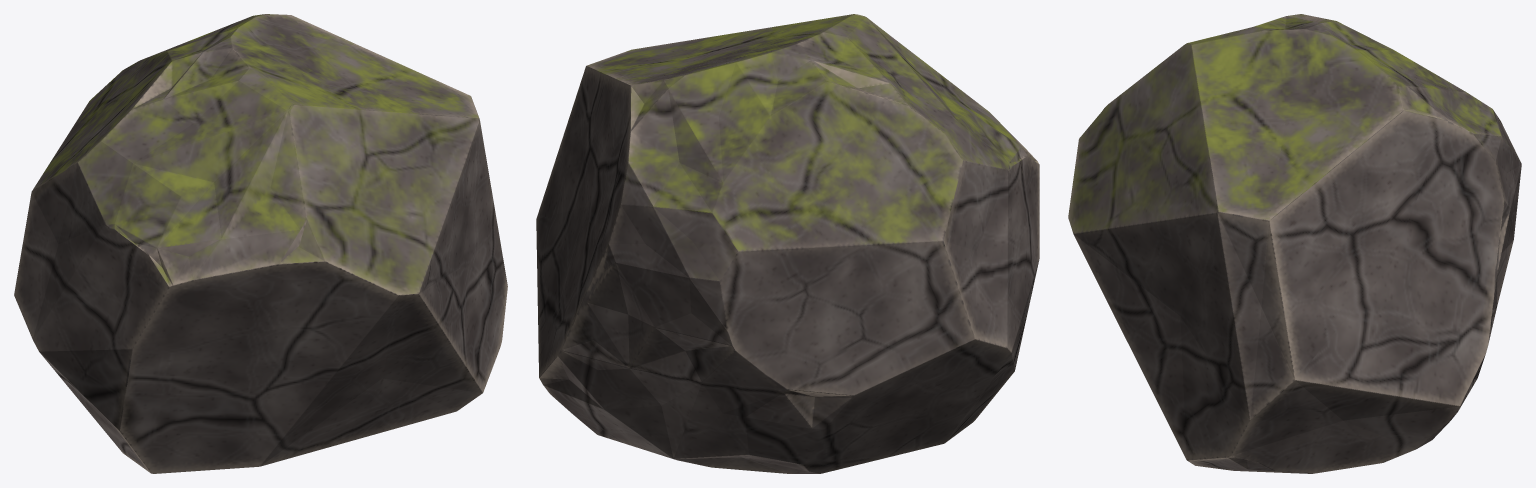
The model's file is Stone_Small_C.fbx.
The picture shows the model from 3 angles, left to right: view 1: azimuth 30°, elevation 25°; view 2: azimuth 150°, elevation 25°; view 3: azimuth 270°, elevation 25°; orthographic projection. The views are drawn at different scales.
Visible parts, largest first — view 1: Stone_Small_C; view 2: Stone_Small_C; view 3: Stone_Small_C.
Part boxes in pixels (x1,y1,x2,y2): Stone_Small_C: [14, 14, 507, 473]; Stone_Small_C: [536, 14, 1039, 473]; Stone_Small_C: [1068, 14, 1521, 473].
Size of the model in its own units: 0.2575 by 0.1963 by 0.2267.
